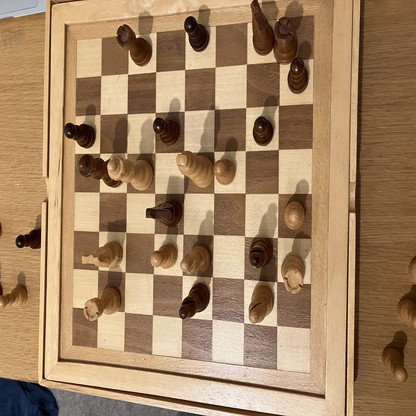bishop_black: (180, 283, 210, 319), (250, 238, 272, 267)
bishop_white: (249, 285, 273, 322), (181, 245, 210, 275)
king_white: (176, 150, 214, 187)
knight_black: (251, 0, 275, 55), (145, 199, 182, 226)
knight_white: (82, 244, 123, 268)
pawn_black: (184, 16, 210, 52), (63, 123, 96, 147), (288, 60, 309, 94), (153, 118, 179, 145), (253, 117, 273, 145), (16, 227, 41, 249)
pawn_white: (382, 347, 407, 384), (150, 244, 177, 269), (0, 285, 28, 308), (283, 202, 305, 230), (215, 159, 235, 185)
queen_black: (78, 155, 121, 187)
queen_white: (107, 157, 152, 191)
rock_black: (116, 25, 152, 65), (275, 18, 297, 64)
rock_white: (84, 287, 121, 321), (281, 253, 305, 294)
